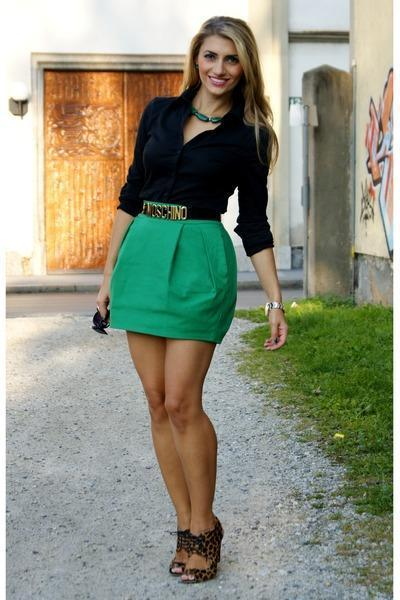shirt: (117, 92, 273, 256)
shoe: (174, 521, 223, 583)
skirt: (109, 212, 239, 345)
